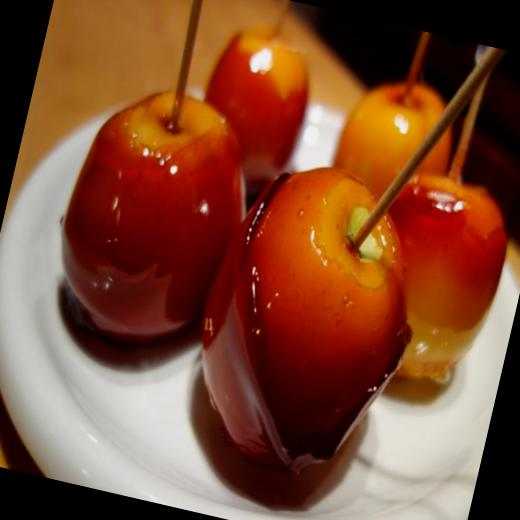Apple: (17, 0, 520, 511)
